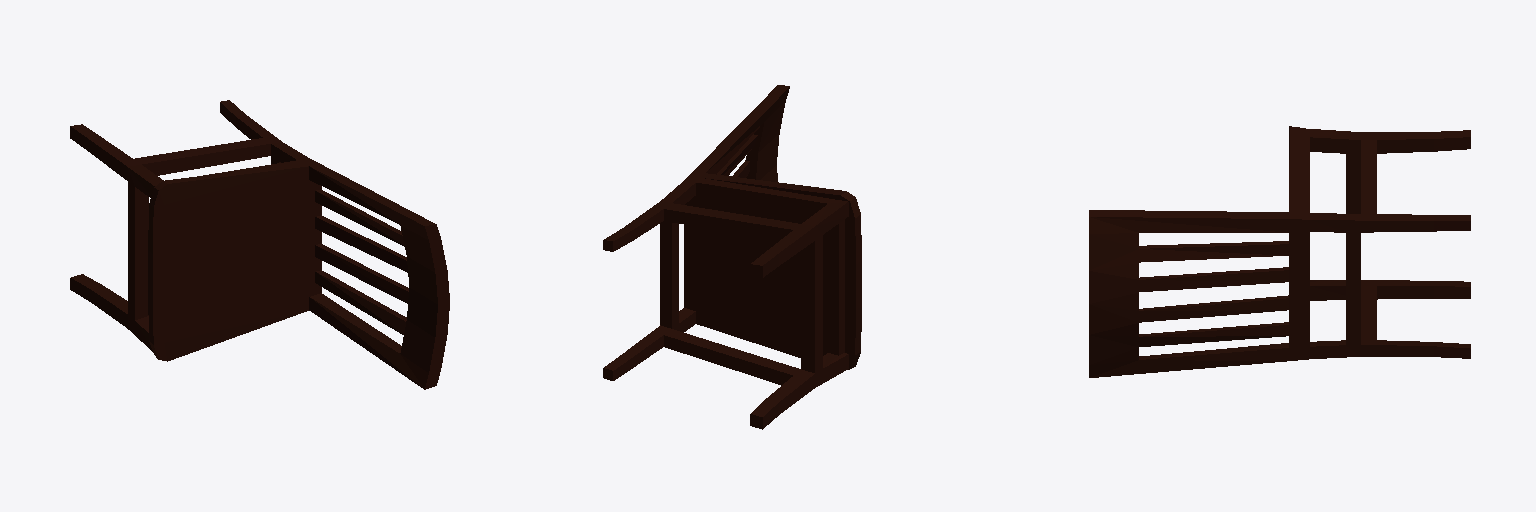
The model's file is WoodChair_01(1).obj.
3 views of the same model, side by side, from view 1: azimuth 30°, elevation 25°; view 2: azimuth 150°, elevation 25°; view 3: azimuth 270°, elevation 25° (orthographic).
Parts seen in each view (by area): view 1: polySurface1; view 2: polySurface1; view 3: polySurface1.
Part boxes in pixels (bbox=[...]): polySurface1: bbox=[70, 100, 449, 389]; polySurface1: bbox=[603, 85, 861, 429]; polySurface1: bbox=[1089, 126, 1470, 377].
Bounding box in the file's own units: 182 × 157 × 305.